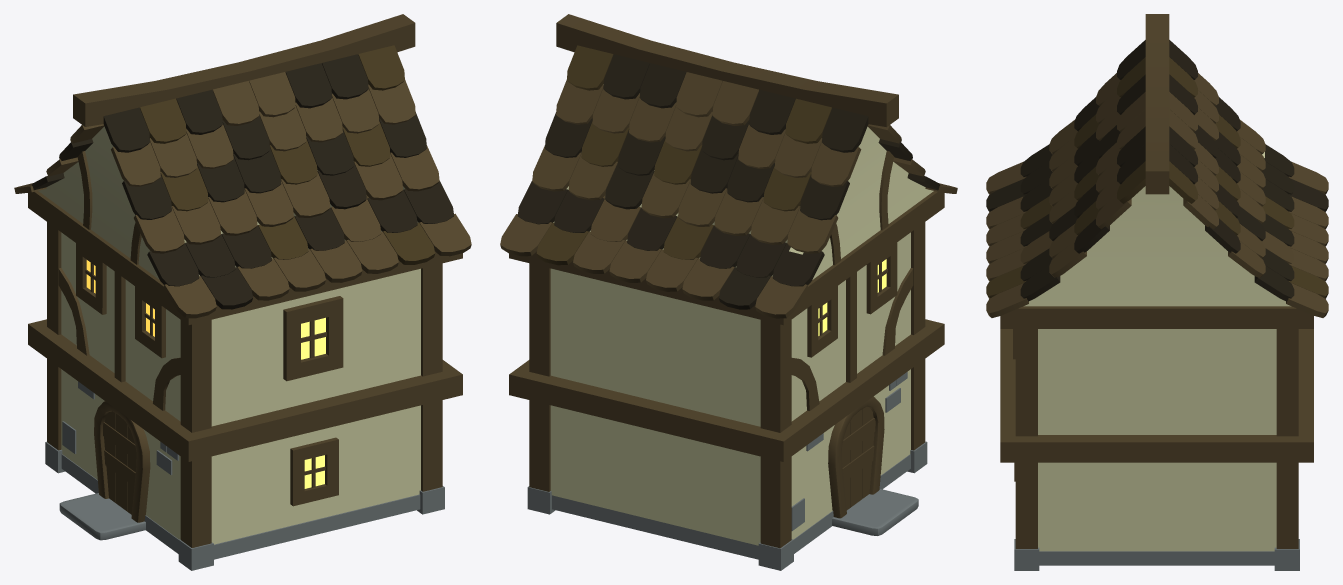
Rendered from HouseTest.fbx.
The picture shows the model from 3 angles, left to right: view 1: azimuth 30°, elevation 25°; view 2: azimuth 150°, elevation 25°; view 3: azimuth 270°, elevation 25°; orthographic projection. The views are drawn at different scales.
Visible parts, largest first — view 1: Right_rooftile, Right_wall_top, Right_wall_low, Beam_center, Beam_roof, Front_wall_top001, Structure_rock, Beam_top, Front_wall_roof, Front_wall_low, Wood_door, Right_window_top (+15 smaller); view 2: Right_rooftile001, Left_wall_top, Left_wall_low, Beam_center, Beam_roof, Front_wall_top001, Structure_rock, Front_wall_roof, Beam_top, Front_wall_low, Wood_door, Front_leftt_post_top (+13 smaller); view 3: Back_wall_top, Right_rooftile, Right_rooftile001, Back_wall_low, Back_wall_roof, Beam_center, Beam_top, Structure_rock, Beam_roof, Back_left_post_top, Back_right_post_top, Back_left_post_low (+1 smaller).
Boxes of the visible parts, bbox=[...] form: Right_rooftile: bbox=[103, 45, 471, 318]; Right_wall_top: bbox=[211, 268, 420, 426]; Right_wall_low: bbox=[211, 405, 420, 544]; Beam_center: bbox=[28, 319, 462, 461]; Beam_roof: bbox=[73, 14, 415, 126]; Front_wall_top001: bbox=[61, 232, 180, 421]; Structure_rock: bbox=[45, 441, 444, 570]; Beam_top: bbox=[28, 191, 462, 325]; Front_wall_roof: bbox=[38, 126, 159, 279]; Front_wall_low: bbox=[61, 369, 180, 539]; Wood_door: bbox=[94, 401, 150, 522]; Right_window_top: bbox=[283, 296, 343, 381]; Right_rooftile001: bbox=[500, 45, 868, 318]; Left_wall_top: bbox=[550, 268, 760, 426]; Left_wall_low: bbox=[550, 405, 760, 545]; Beam_center: bbox=[509, 319, 944, 461]; Beam_roof: bbox=[556, 14, 898, 127]; Front_wall_top001: bbox=[791, 232, 910, 421]; Structure_rock: bbox=[527, 441, 927, 570]; Front_wall_roof: bbox=[789, 126, 933, 279]; Beam_top: bbox=[509, 191, 944, 325]; Front_wall_low: bbox=[791, 369, 910, 539]; Wood_door: bbox=[828, 396, 884, 518]; Front_leftt_post_top: bbox=[760, 320, 791, 432]; Back_wall_top: bbox=[1038, 329, 1276, 434]; Right_rooftile: bbox=[986, 40, 1145, 317]; Right_rooftile001: bbox=[1169, 40, 1328, 317]; Back_wall_low: bbox=[1038, 462, 1276, 551]; Back_wall_roof: bbox=[1024, 186, 1290, 306]; Beam_center: bbox=[1000, 329, 1313, 462]; Beam_top: bbox=[1000, 306, 1313, 328]; Structure_rock: bbox=[1014, 539, 1299, 570]; Beam_roof: bbox=[1145, 14, 1169, 194]; Back_left_post_top: bbox=[1276, 329, 1298, 436]; Back_right_post_top: bbox=[1015, 329, 1037, 436]; Back_left_post_low: bbox=[1276, 462, 1298, 548].
Bounding box in the file's own units: 20.36 × 24.91 × 18.52.
